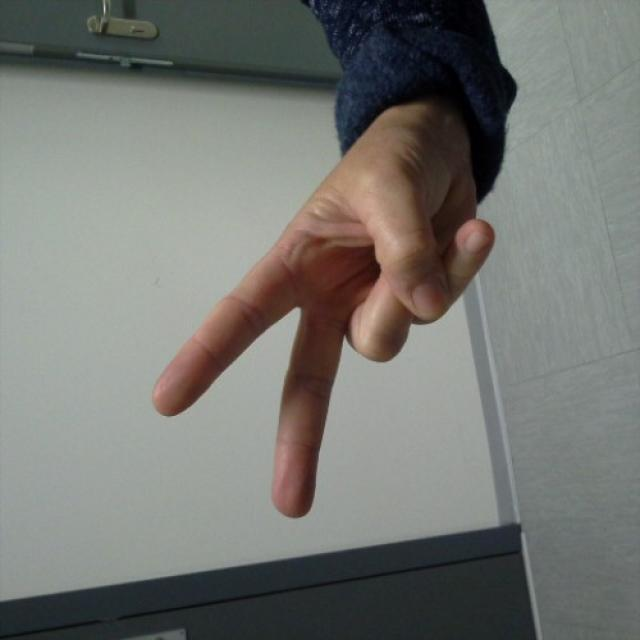scissors: (148, 156, 498, 520)
